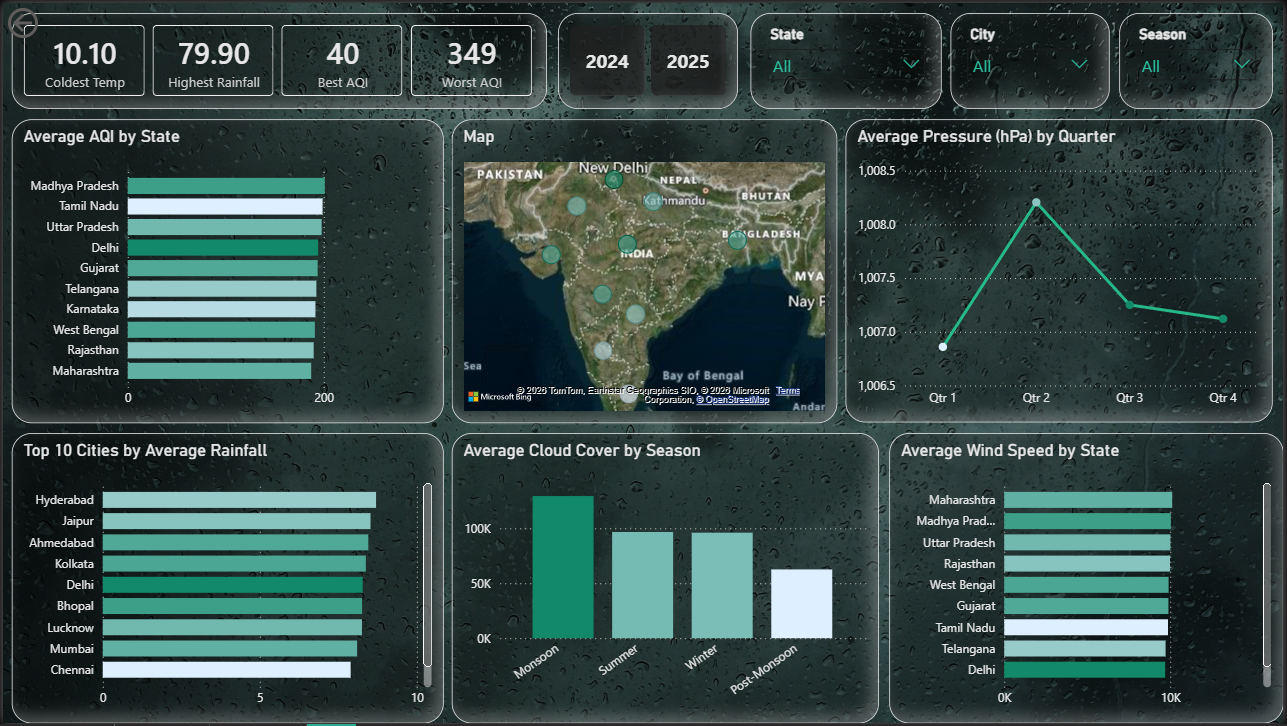

This screenshot's page, from the dashboard's own definition file:
{"tool":"powerbi","page":{"name":"Page 2","canvas":[1280,720],"ordinal":1},"visuals":[{"type":"cardVisual","fields":{"Data":["weather_data_cleaned.Coldest Temp","weather_data_cleaned.Highest Rainfall","weather_data_cleaned.Best AQI","weather_data_cleaned.Worst AQI"]},"box":[8.6,9.8,535,95.7],"z":0},{"type":"clusteredBarChart","title":"Average AQI by State","fields":{"Category":["weather_data_cleaned.State"],"Y":["Avg(weather_data_cleaned.AQI)"]},"box":[9,116,432,304],"z":1000},{"type":"barChart","title":"Top 10 Cities by Average Rainfall","fields":{"Category":["weather_data_cleaned.City"],"Y":["Avg(weather_data_cleaned.Rainfall (mm))"]},"box":[9,430,432,290],"z":2000},{"type":"lineChart","title":"Average Pressure (hPa) by Quarter","fields":{"Y":["Avg(weather_data_cleaned.Pressure (hPa))"],"Category":["weather_data_cleaned.Date.Variation.Date Hierarchy.Quarter"]},"box":[842.9,116.6,427,303.1],"z":3000},{"type":"map","title":"Map","fields":{"Category":["weather_data_cleaned.State"],"Size":["Avg(weather_data_cleaned.Rainfall (mm))"]},"box":[449.1,116.6,385.3,304.3],"z":4000},{"type":"clusteredColumnChart","title":"Average Cloud Cover by Season","fields":{"Category":["weather_data_cleaned.Season"],"Y":["Sum(weather_data_cleaned.Cloud_Cover (%))"]},"box":[449.1,429.5,427,290],"z":5000},{"type":"barChart","title":"Average Wind Speed by State","fields":{"Y":["Sum(weather_data_cleaned.Wind_Speed (km/h))"],"Category":["weather_data_cleaned.State"]},"box":[886.2,430,394,290],"z":6000},{"type":"advancedSlicerVisual","fields":{"Values":["weather_data_cleaned.Date.Variation.Date Hierarchy.Year"]},"box":[554.6,9.8,180.4,95.7],"z":7000},{"type":"slicer","fields":{"Values":["weather_data_cleaned.State"]},"box":[747.2,9.8,191.4,95.7],"z":8000},{"type":"slicer","fields":{"Values":["weather_data_cleaned.City"]},"box":[947.2,9.8,159.5,95.7],"z":9000},{"type":"slicer","fields":{"Values":["weather_data_cleaned.Season"]},"box":[1116.6,9.8,153.4,95.7],"z":10000},{"type":"actionButton","box":[0,0,100,40],"z":11000}]}

Visuals, with their boxes in screenshot pixels (x1, y1, x2, y2), scaled from the page's 1280x720 canvas onto the 1287x726 screenshot:
cardVisual - weather_data_cleaned.Coldest Temp x weather_data_cleaned.Highest Rainfall: (x1=9, y1=10, x2=547, y2=106)
"Average AQI by State" clusteredBarChart: (x1=9, y1=117, x2=443, y2=424)
"Top 10 Cities by Average Rainfall" barChart: (x1=9, y1=434, x2=443, y2=725)
"Average Pressure (hPa) by Quarter" lineChart: (x1=848, y1=118, x2=1277, y2=423)
"Map" map: (x1=452, y1=118, x2=839, y2=424)
"Average Cloud Cover by Season" clusteredColumnChart: (x1=452, y1=433, x2=881, y2=725)
"Average Wind Speed by State" barChart: (x1=891, y1=434, x2=1286, y2=725)
advancedSlicerVisual - weather_data_cleaned.Date.Variation.Date Hierarchy.Year: (x1=558, y1=10, x2=739, y2=106)
slicer - weather_data_cleaned.State: (x1=751, y1=10, x2=944, y2=106)
slicer - weather_data_cleaned.City: (x1=952, y1=10, x2=1113, y2=106)
slicer - weather_data_cleaned.Season: (x1=1123, y1=10, x2=1277, y2=106)
actionButton: (x1=0, y1=0, x2=101, y2=40)
